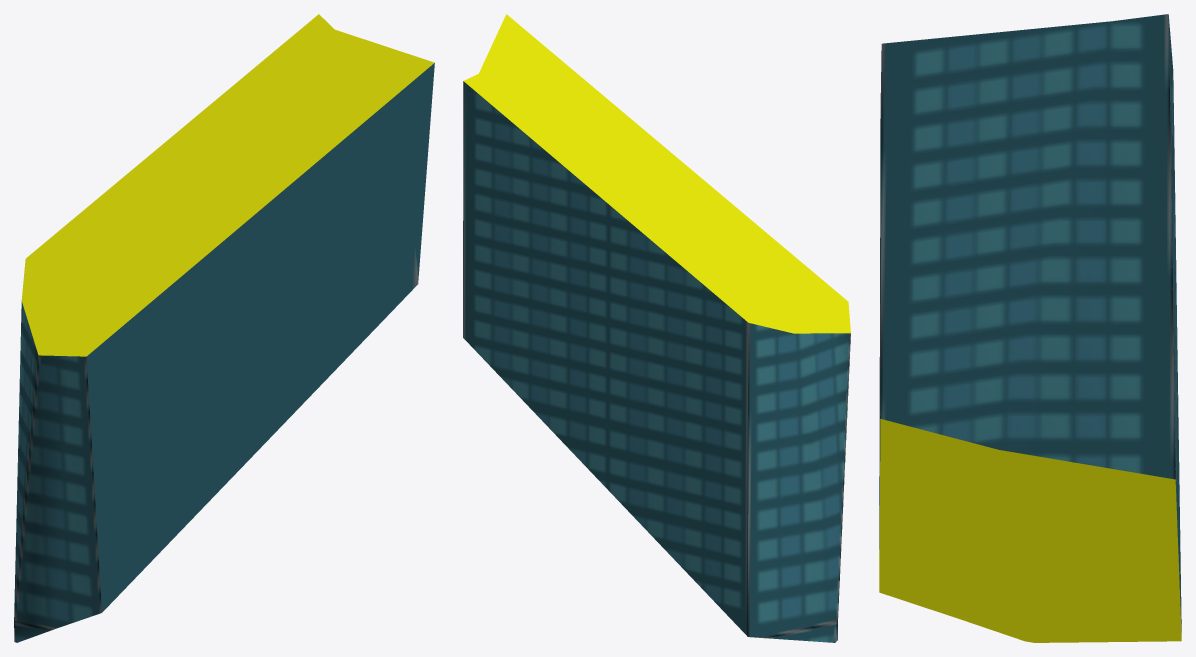
File: boAShard6.fbx
The picture shows the model from 3 angles, left to right: view 1: azimuth 30°, elevation 25°; view 2: azimuth 150°, elevation 25°; view 3: azimuth 270°, elevation 25°; orthographic projection. The views are drawn at different scales.
Visible parts, largest first — view 1: shard62; view 2: shard62; view 3: shard62.
Part boxes in pixels (x1=…): shard62: x1=14, y1=14, x2=434, y2=642; shard62: x1=463, y1=14, x2=850, y2=642; shard62: x1=879, y1=14, x2=1181, y2=642.
Size of the model in its own units: 0.1196 by 0.156 by 0.046.
2 materials, 1 textured.
